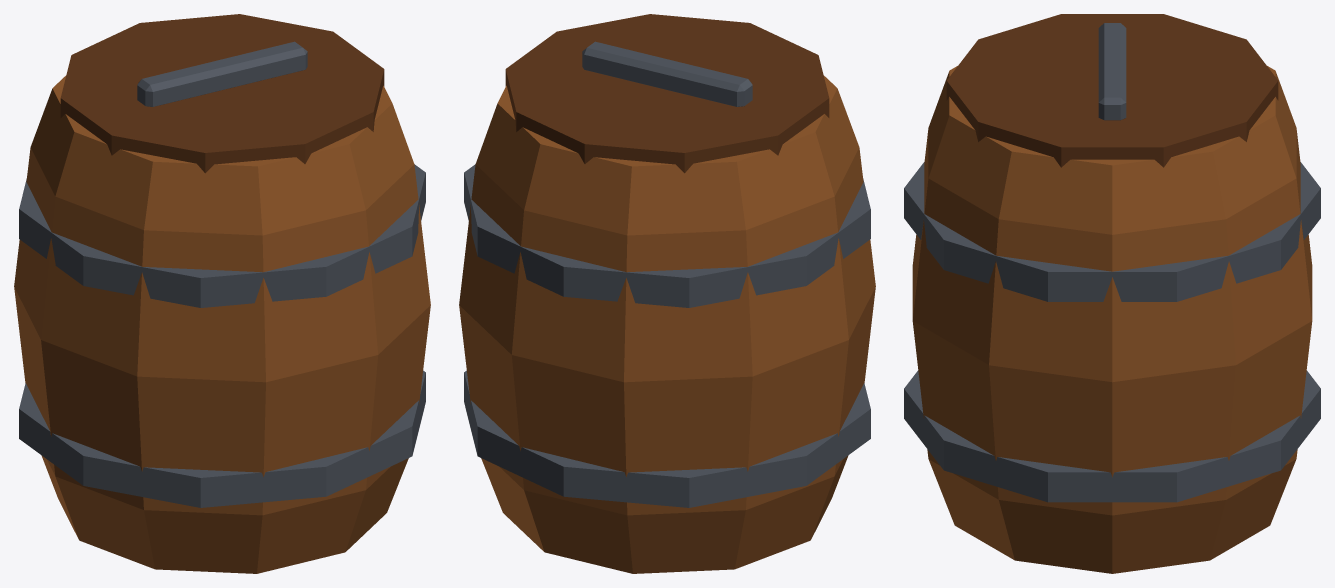
File: barrel.glb
3 renders of one model, left to right at view 1: azimuth 30°, elevation 25°; view 2: azimuth 150°, elevation 25°; view 3: azimuth 270°, elevation 25°, orthographic.
Parts seen in each view (by area): view 1: Barrel, Lid; view 2: Barrel, Lid; view 3: Barrel, Lid.
Part boxes in pixels (x1=…): Barrel: x1=14, y1=75, x2=430, y2=573; Lid: x1=60, y1=14, x2=384, y2=173; Barrel: x1=459, y1=75, x2=875, y2=573; Lid: x1=505, y1=14, x2=829, y2=173; Barrel: x1=904, y1=66, x2=1320, y2=573; Lid: x1=946, y1=14, x2=1278, y2=167.
Size of the model in its own units: 0.76 by 0.885 by 0.754.
